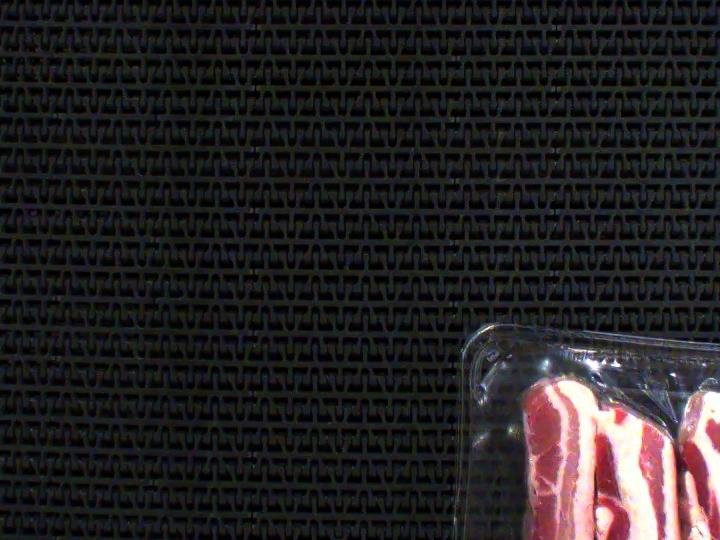unsealed: (463, 325, 720, 540)
